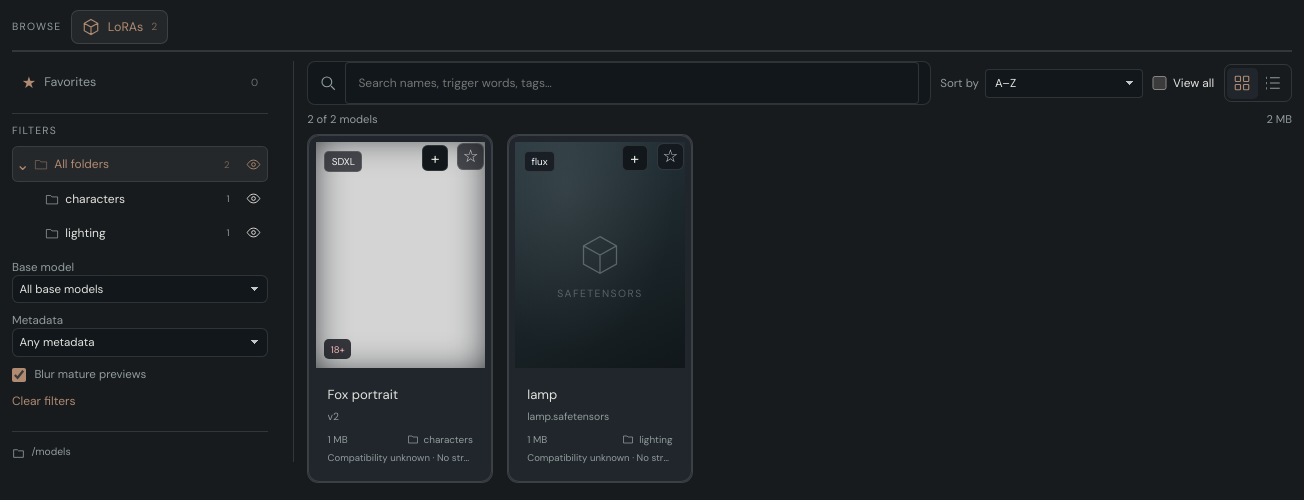
searches metadata and trigger words, filters folders and bases, and keeps favorites
Earlier steps of the test are not shown.
Later steps or results of the test are not shown.
Click the list item "lighting": (142, 233) [45,217,238,249]
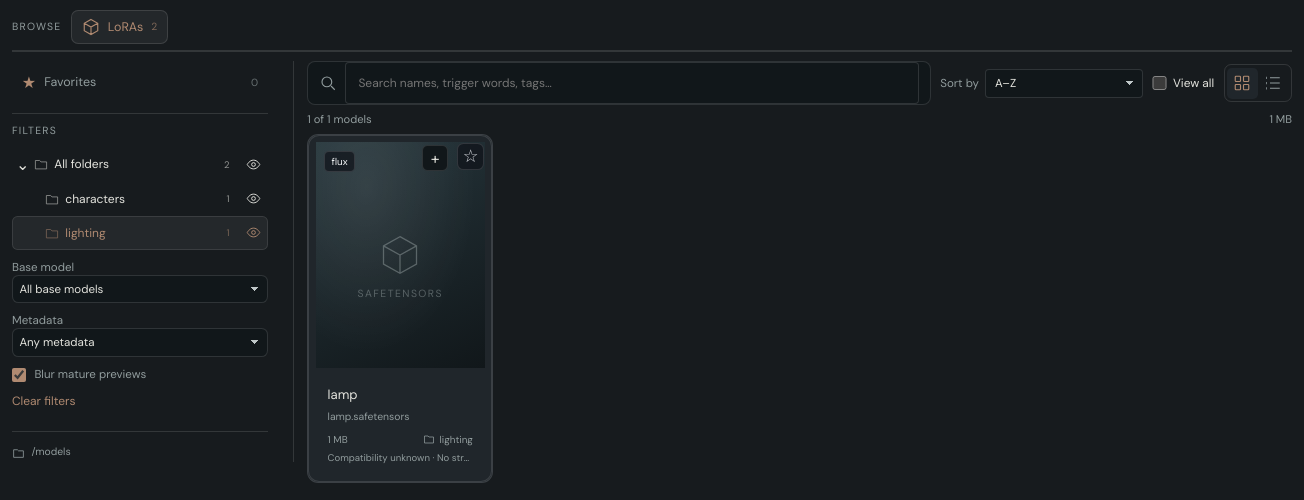
Expected: the button with aria-label "lighting/lamp.safetensors" is shown, [308,134,492,482]
Click the button "Clear filters": (140, 401) [12,393,268,409]
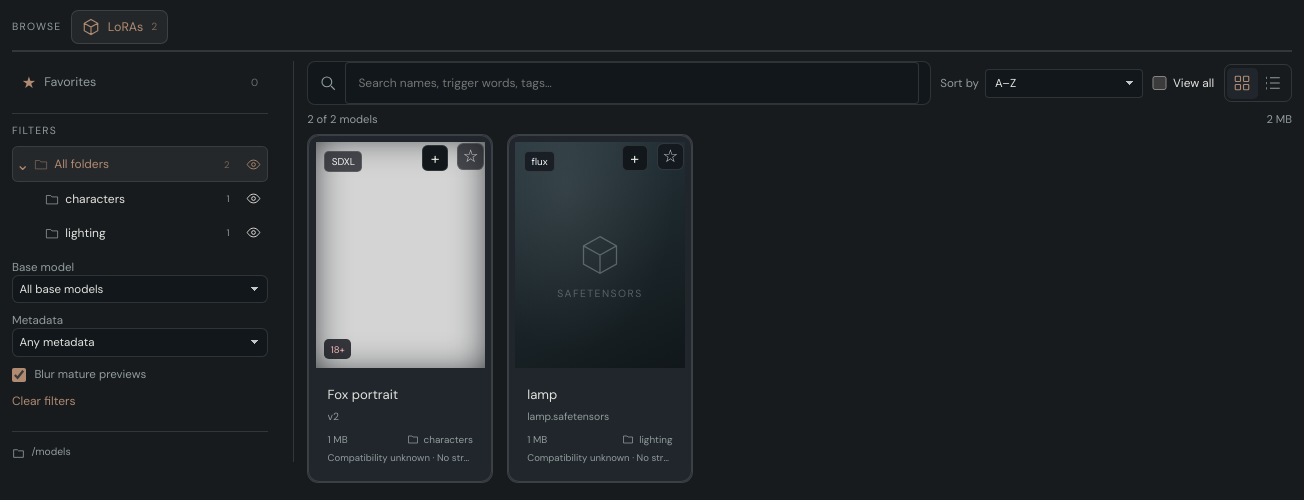
Select "SDXL" in the dropdown labelled "Base model": (140, 289) [12,274,268,303]
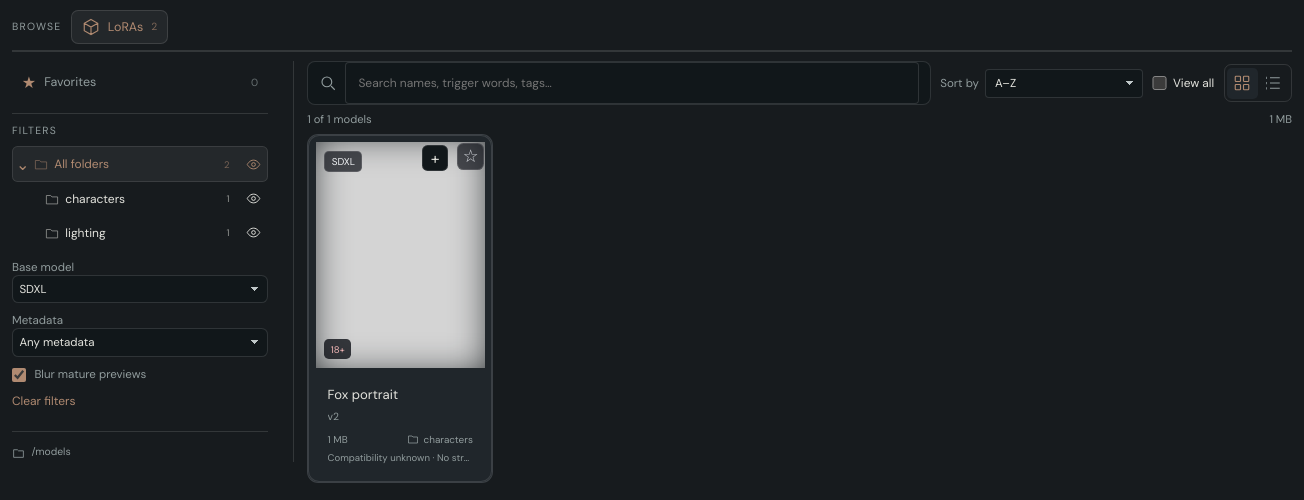
Click the button "Clear filters": (140, 401) [12,393,268,409]
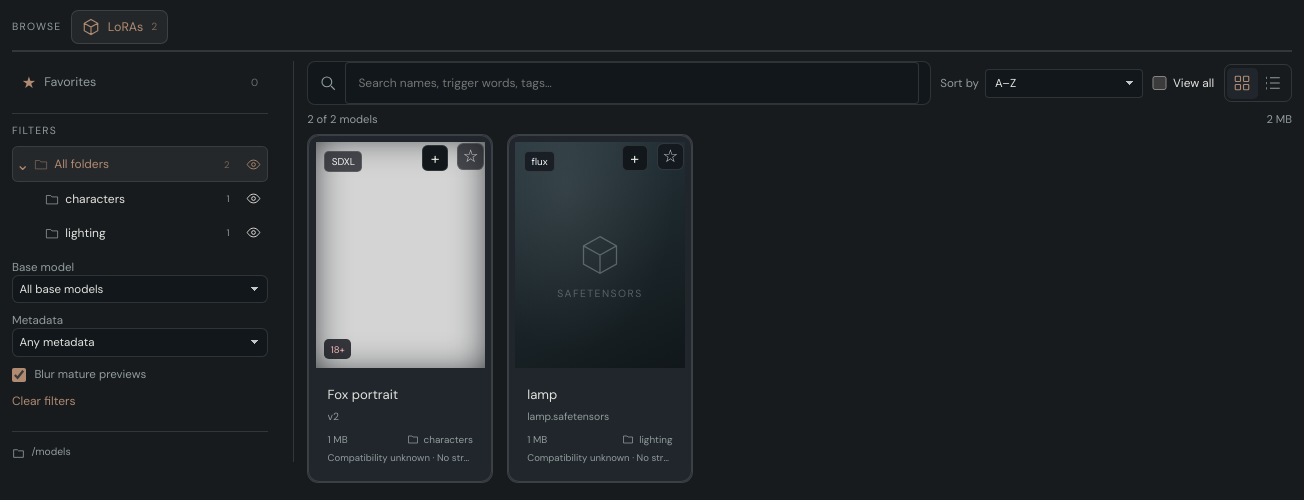
Click the 1st button "☆": (471, 156) [457,142,484,170]
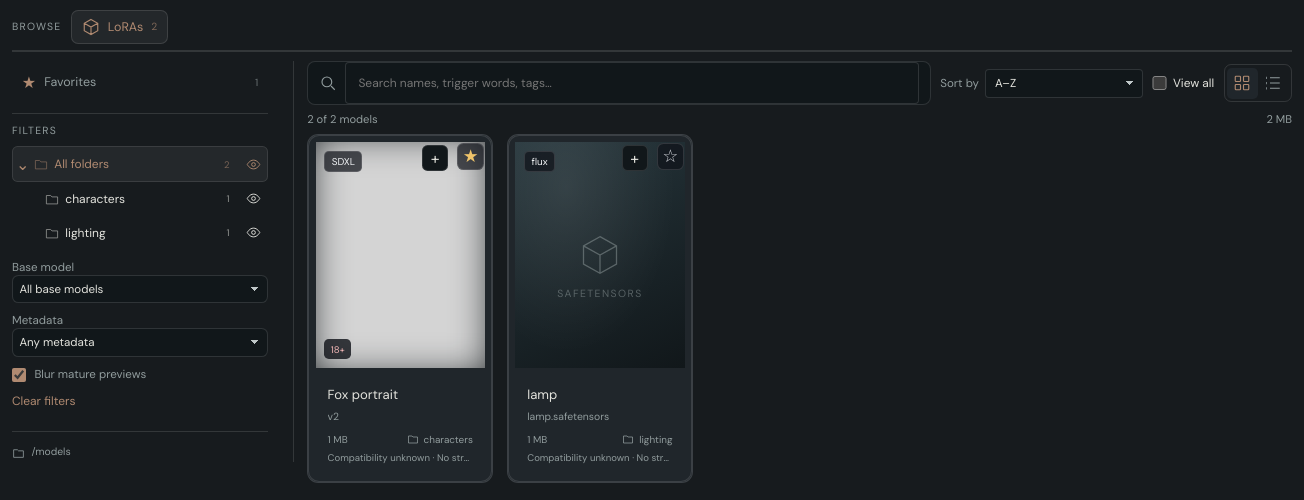
Click the button "★ Favorites 1": (140, 82) [12,61,268,103]
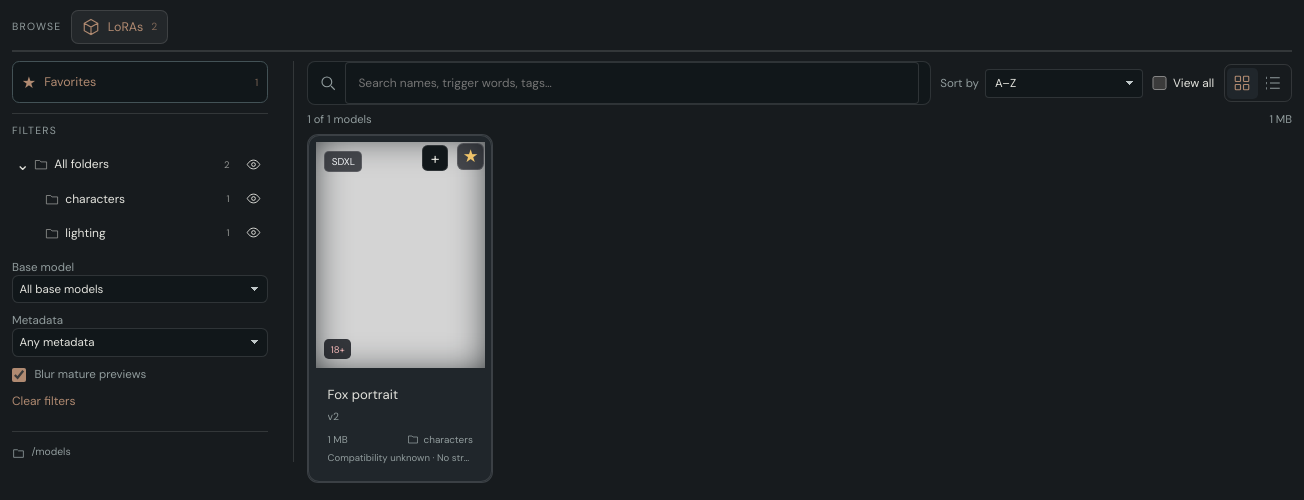
Expected: the button with aria-label "characters/fox.safetensors" is shown, [308,134,492,482]
